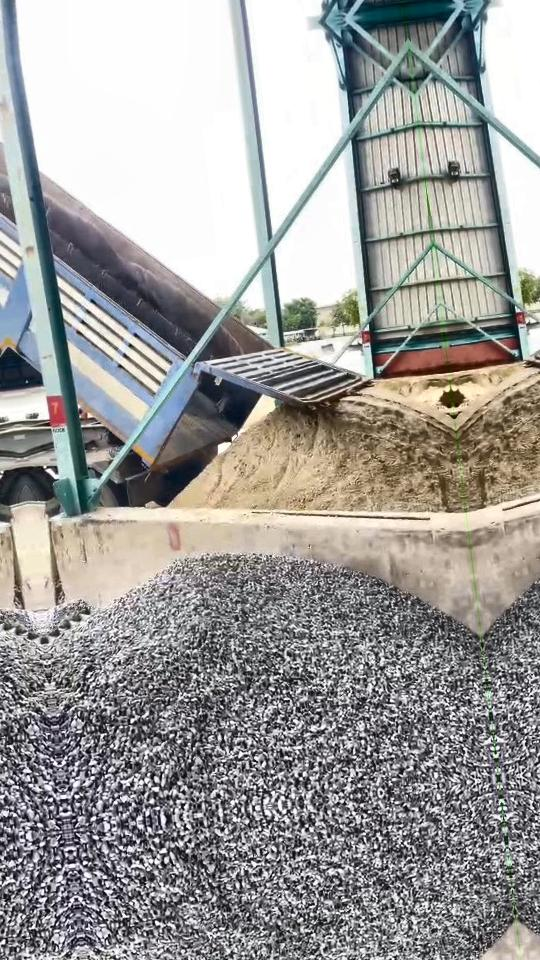gravel: (45, 555, 495, 829), (40, 601, 89, 642)
sand: (170, 393, 463, 511), (369, 374, 451, 413), (245, 396, 274, 427)
